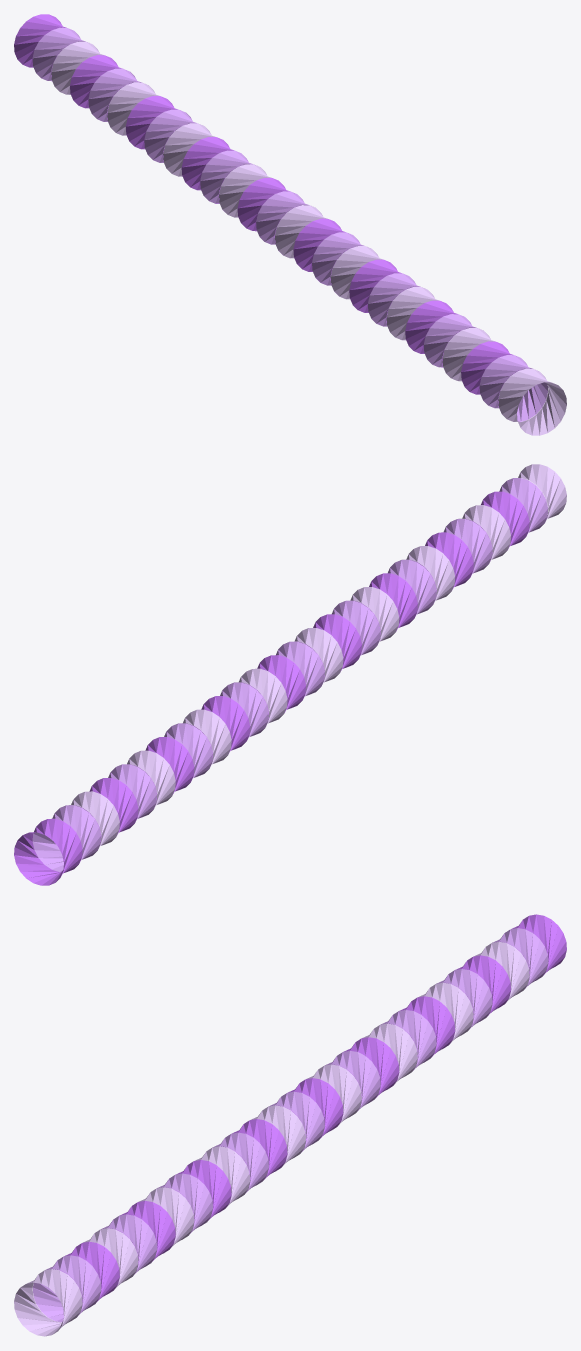
File: valley.dae
3 renders of one model, top to bottom at view 1: azimuth 30°, elevation 25°; view 2: azimuth 150°, elevation 25°; view 3: azimuth 330°, elevation 25°, orthographic.
Visible parts, largest first — view 1: group_10, group_27, group_19, group_13, group_25, group_16, group_24, group_1, group_5, group_4, group_28, group_21 (+15 smaller); view 2: group_4, group_9, group_5, group_24, group_13, group_19, group_28, group_16, group_1, group_25, group_22, group_2 (+15 smaller); view 3: group_10, group_27, group_13, group_28, group_5, group_24, group_4, group_16, group_25, group_19, group_1, group_23 (+15 smaller).
Part boxes in pixels (box(x1,y1,x2,y2)): group_10: box(498, 368, 566, 435); group_27: box(479, 355, 548, 421); group_19: box(293, 218, 357, 284); group_13: box(405, 300, 469, 367); group_25: box(237, 178, 301, 242); group_16: box(349, 259, 411, 322); group_24: box(181, 137, 245, 203); group_1: box(125, 96, 190, 161); group_5: box(70, 55, 134, 119); group_4: box(14, 14, 78, 81); group_28: box(461, 341, 523, 406); group_21: box(256, 191, 309, 254); group_4: box(14, 818, 82, 885); group_9: box(32, 805, 100, 871); group_5: box(76, 778, 138, 841); group_24: box(186, 696, 250, 760); group_13: box(412, 532, 473, 596); group_19: box(298, 614, 361, 676); group_28: box(465, 491, 529, 553); group_16: box(355, 573, 417, 637); group_1: box(130, 737, 194, 799); group_25: box(242, 655, 305, 718); group_22: box(234, 668, 287, 732); group_2: box(178, 709, 231, 773); group_10: box(14, 1269, 82, 1336); group_27: box(32, 1255, 101, 1322); group_13: box(108, 1201, 175, 1263); group_28: box(53, 1241, 119, 1302); group_5: box(444, 955, 510, 1018); group_24: box(332, 1037, 399, 1099); group_4: box(500, 914, 566, 976); group_16: box(166, 1160, 231, 1223); group_25: box(276, 1078, 343, 1142); group_19: box(221, 1119, 287, 1182); group_1: box(389, 996, 455, 1059); group_23: box(325, 1050, 380, 1111).
Size of the model in its own units: 714 by 12433 by 714.
